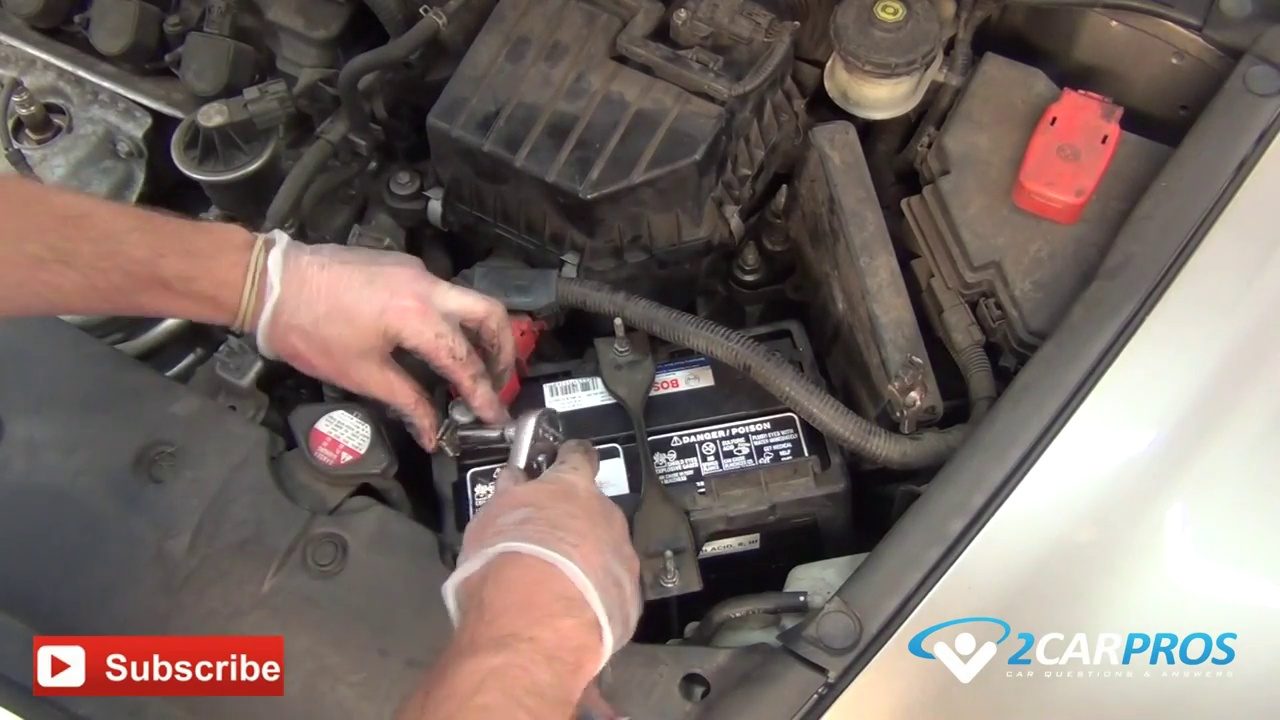battery: (432, 360, 843, 532)
pos_touched: (378, 283, 544, 438)
